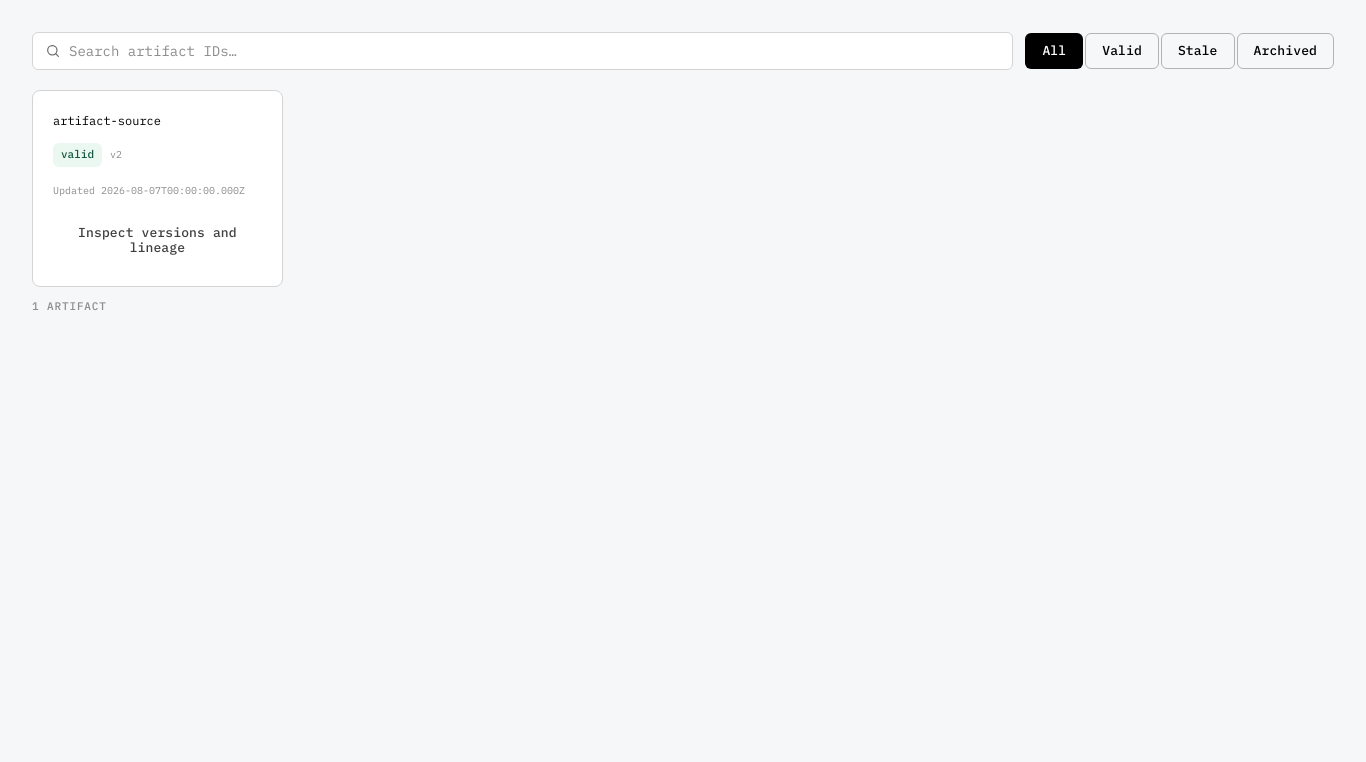
Test: React frontend route and shell smoke coverage › loads immutable artifact versions and lineage from the asset catalog
This screenshot has width=1366, height=762.
Expected: the text "artifact-source" is shown, x1=53 y1=113 x2=161 y2=128
Click the button "Inspect versions and lineage": click(157, 240) x1=53 y1=215 x2=262 y2=266
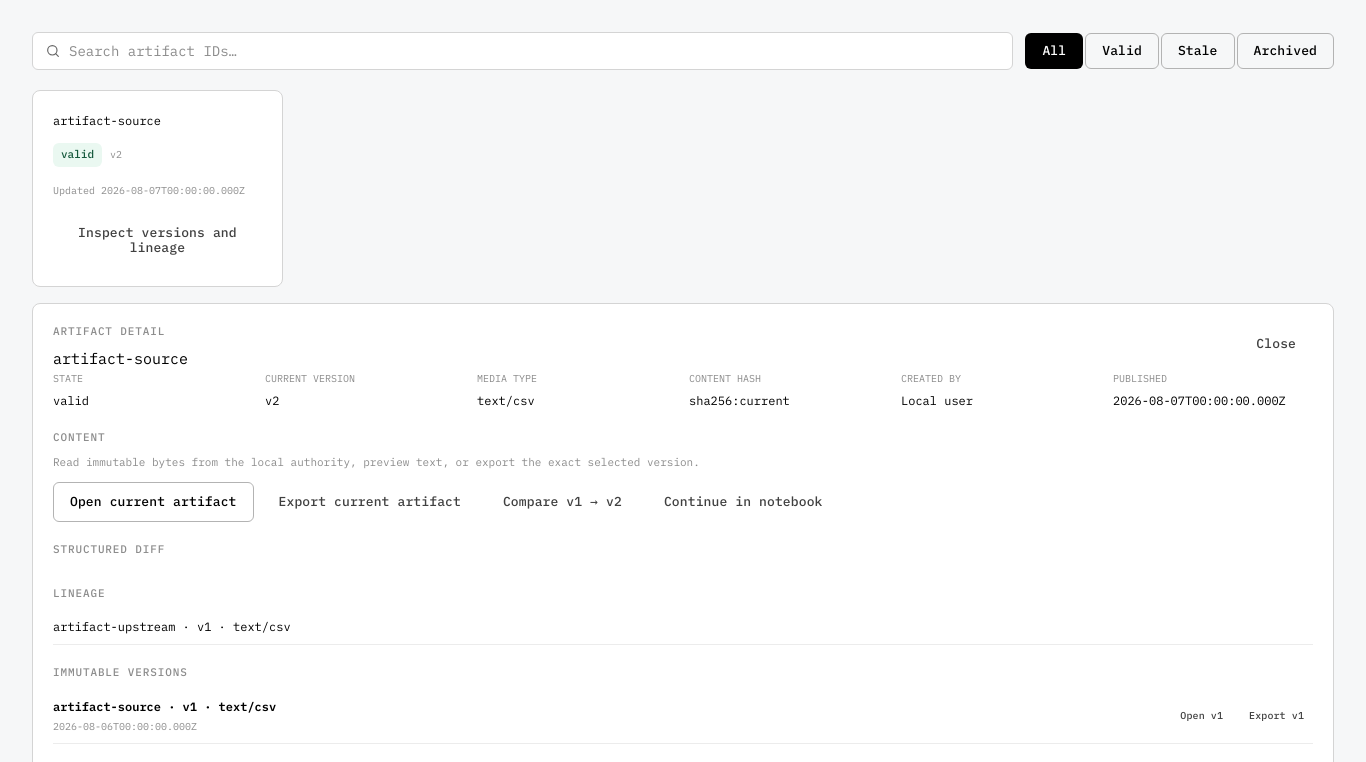
Expected: the list item "artifact-upstream · v1 · text/csv" is shown, x1=53 y1=609 x2=1313 y2=645
Expected: the text "sha256:current" is shown, x1=689 y1=393 x2=790 y2=408
